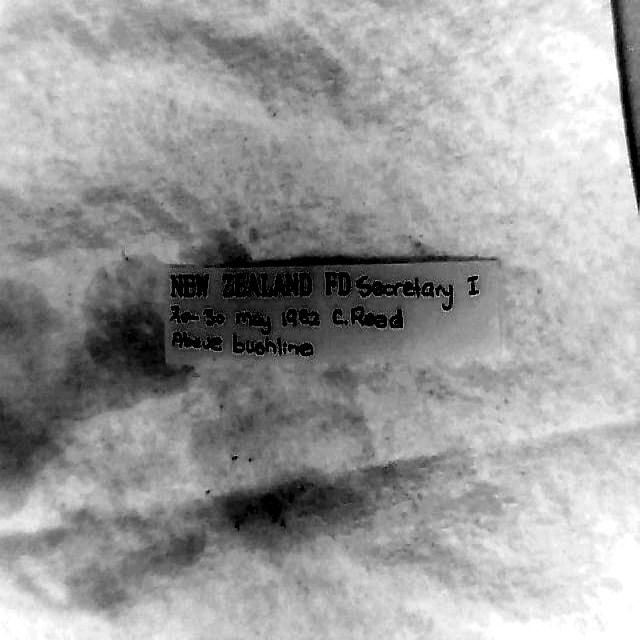mixed_label: (165, 258, 501, 363)
